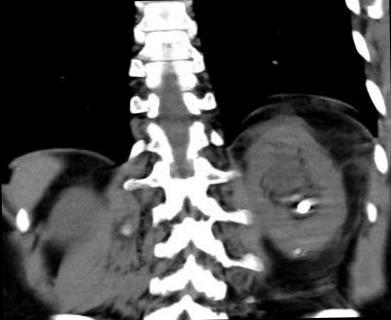Tas_Var: (294, 196, 312, 216), (290, 245, 307, 258)
